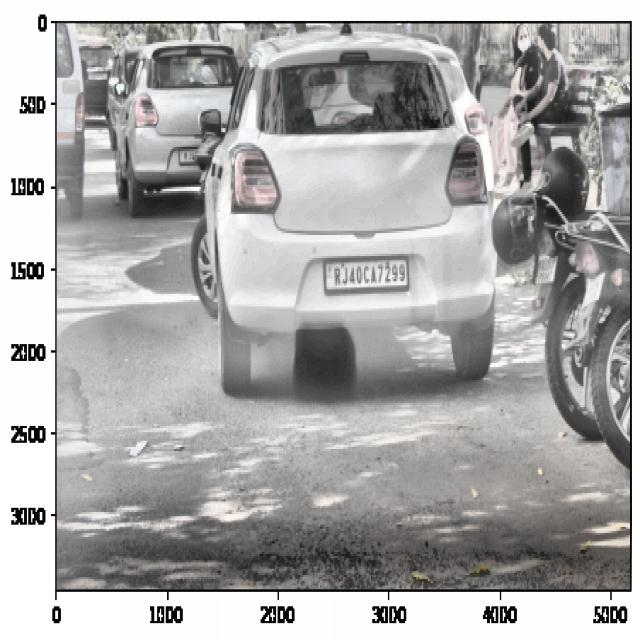license_plate: (328, 257, 409, 291)
